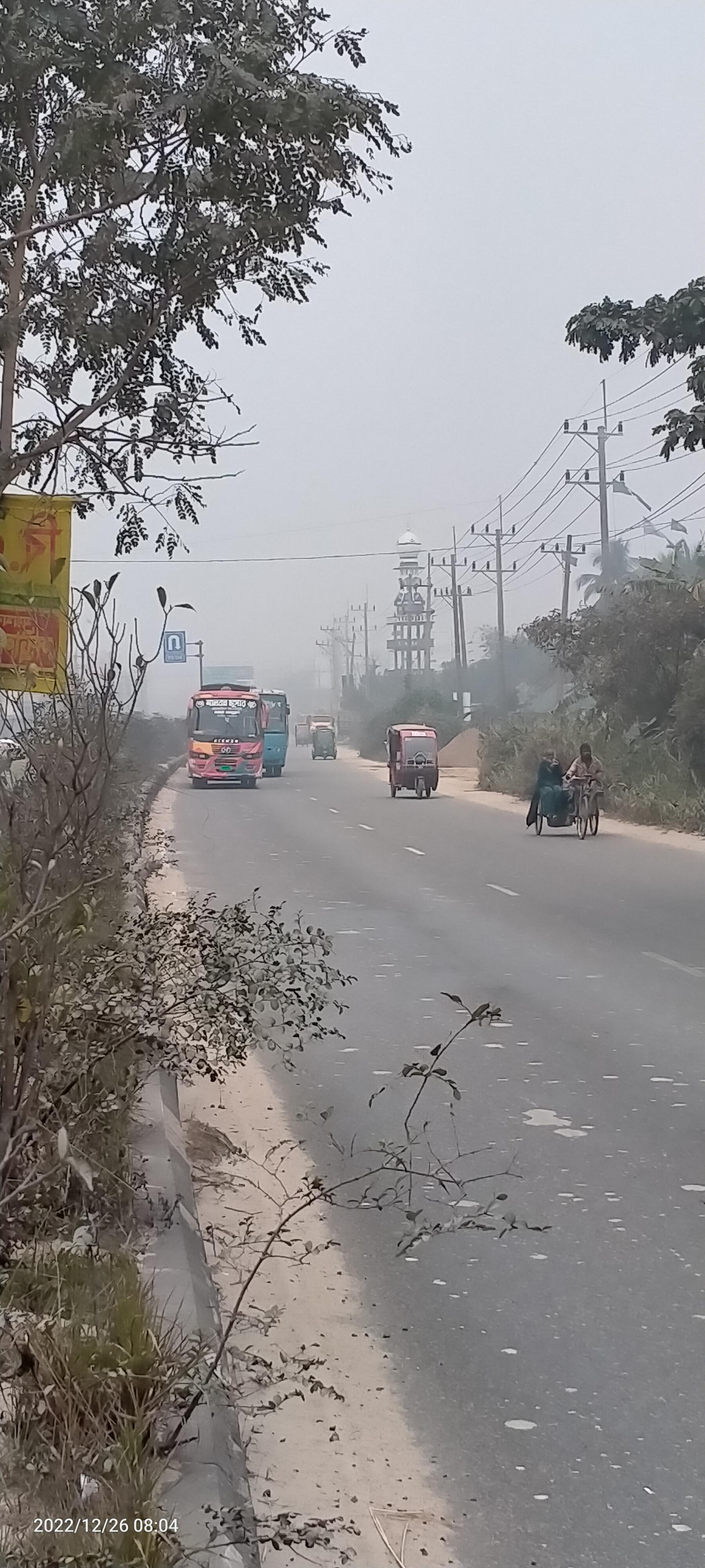Bus: (185, 683, 265, 789), (261, 682, 291, 780)
Car: (387, 723, 443, 802), (294, 721, 313, 750)
